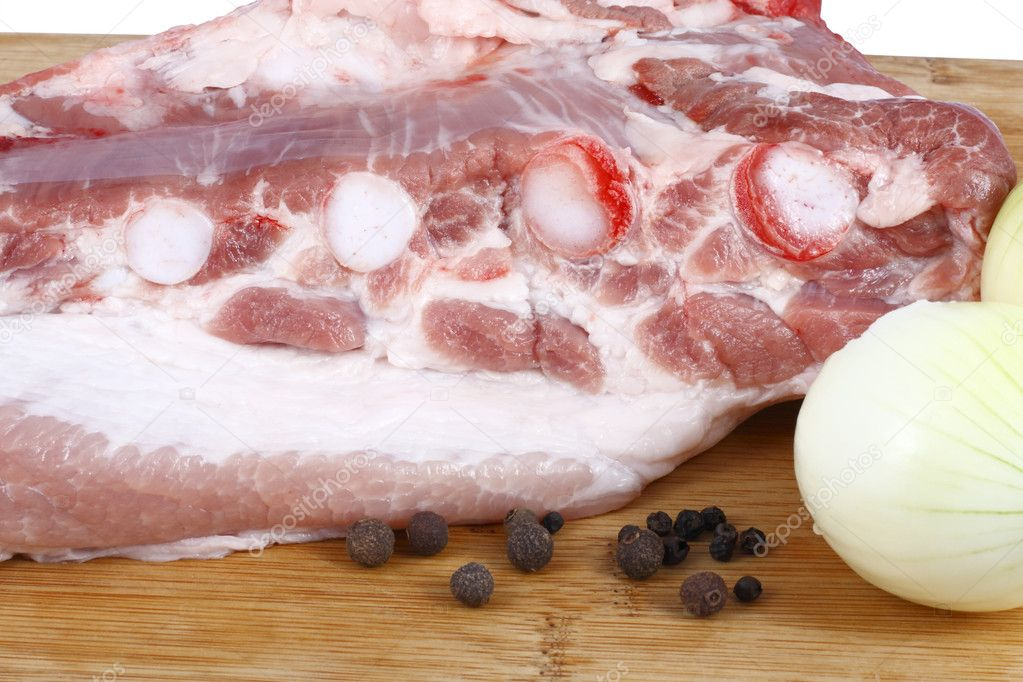bacon: (30, 62, 823, 483), (599, 52, 976, 347)
